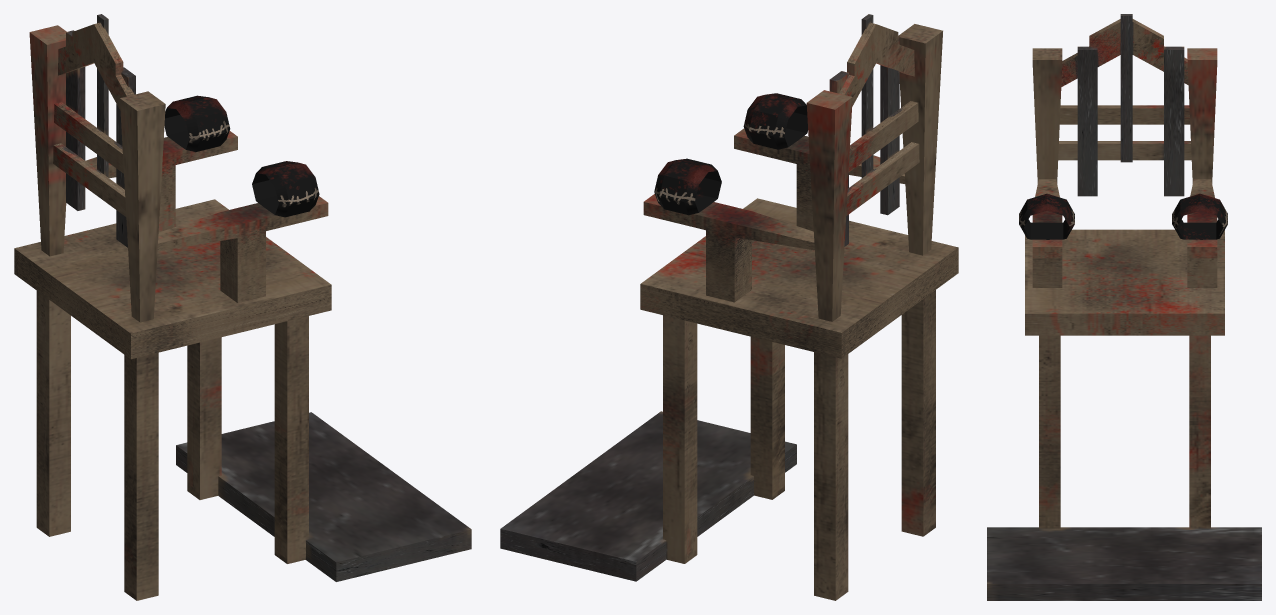
Rendered from SillaMain.fbx.
3 views of the same model, side by side, from view 1: azimuth 30°, elevation 25°; view 2: azimuth 150°, elevation 25°; view 3: azimuth 270°, elevation 25° (orthographic). The views are drawn at different scales.
Visible parts, largest first — view 1: silla:pCube2, silla:pCube1, silla:pPipe3, silla:pPipe2, silla:pCube7, silla:pCube11, silla:pCube9, silla:pCube12, silla:pCube10, silla:pCube8; view 2: silla:pCube2, silla:pCube1, silla:pPipe2, silla:pPipe3, silla:pCube7, silla:pCube11, silla:pCube8, silla:pCube12, silla:pCube10; view 3: silla:pCube2, silla:pCube1, silla:pCube9, silla:pCube8, silla:pCube7, silla:pCube10, silla:pPipe3, silla:pPipe2, silla:pCube11, silla:pCube12.
Boxes of the visible parts, bbox=[...] form: silla:pCube2: bbox=[14, 25, 331, 600]; silla:pCube1: bbox=[176, 412, 471, 581]; silla:pPipe3: bbox=[252, 161, 319, 217]; silla:pPipe2: bbox=[164, 95, 230, 151]; silla:pCube7: bbox=[58, 22, 134, 110]; silla:pCube11: bbox=[53, 143, 126, 216]; silla:pCube9: bbox=[66, 30, 85, 210]; silla:pCube12: bbox=[54, 102, 123, 173]; silla:pCube10: bbox=[97, 14, 108, 177]; silla:pCube8: bbox=[116, 67, 135, 247]; silla:pCube2: bbox=[640, 24, 958, 600]; silla:pCube1: bbox=[500, 411, 796, 581]; silla:pPipe2: bbox=[654, 158, 721, 215]; silla:pPipe3: bbox=[743, 93, 807, 149]; silla:pCube7: bbox=[839, 22, 914, 106]; silla:pCube11: bbox=[846, 142, 919, 215]; silla:pCube8: bbox=[880, 35, 899, 215]; silla:pCube12: bbox=[848, 101, 918, 172]; silla:pCube10: bbox=[861, 14, 873, 177]; silla:pCube2: bbox=[1025, 48, 1224, 528]; silla:pCube1: bbox=[987, 527, 1261, 600]; silla:pCube9: bbox=[1164, 46, 1184, 196]; silla:pCube8: bbox=[1077, 46, 1097, 196]; silla:pCube7: bbox=[1061, 19, 1188, 86]; silla:pCube10: bbox=[1120, 14, 1132, 162]; silla:pPipe3: bbox=[1019, 193, 1074, 239]; silla:pPipe2: bbox=[1172, 193, 1227, 239]; silla:pCube11: bbox=[1058, 141, 1191, 160]; silla:pCube12: bbox=[1059, 105, 1190, 124].
Size of the model in its own units: 13.9 by 22.6 by 12.09.
Materials: 2 (2 with a texture image).
